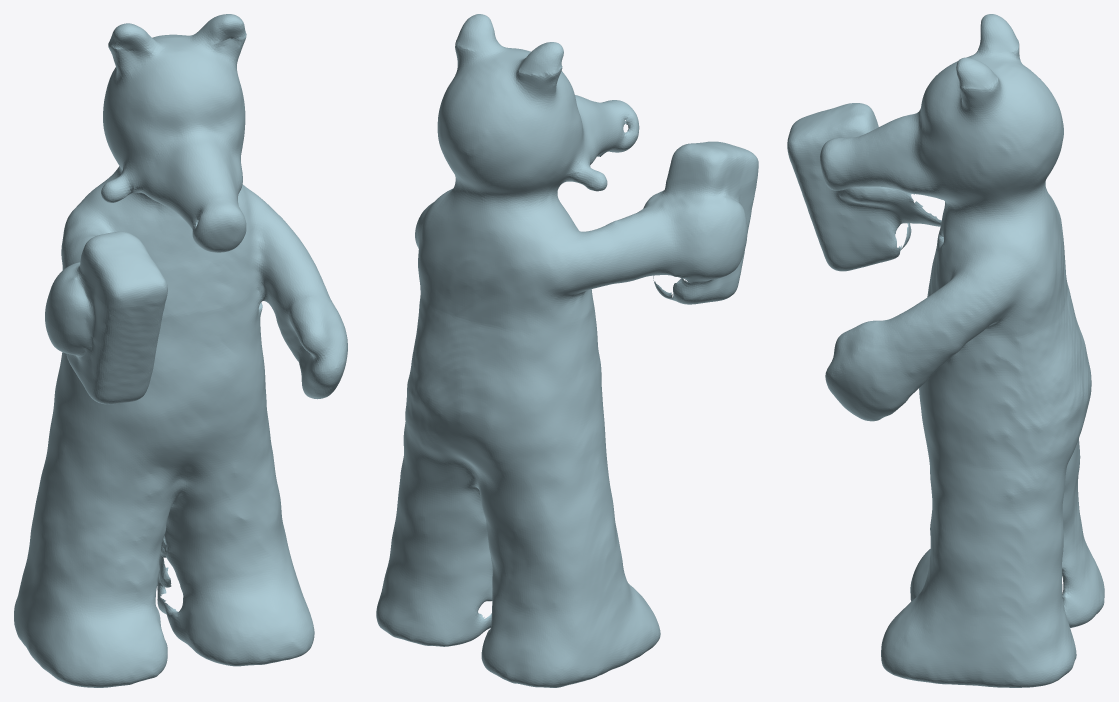
Rendered from lord_quas.glb.
3 views of the same model, side by side, from view 1: azimuth 30°, elevation 25°; view 2: azimuth 150°, elevation 25°; view 3: azimuth 270°, elevation 25° (orthographic). The views are drawn at different scales.
Parts seen in each view (by area): view 1: lord_quas_ours.obj; view 2: lord_quas_ours.obj; view 3: lord_quas_ours.obj.
Boxes of the visible parts, x1,y1,x2,y2 form: lord_quas_ours.obj: (14,14,347,687); lord_quas_ours.obj: (376,14,758,687); lord_quas_ours.obj: (787,14,1104,687).
Size of the model in its own units: 0.4991 by 1 by 0.4777.
